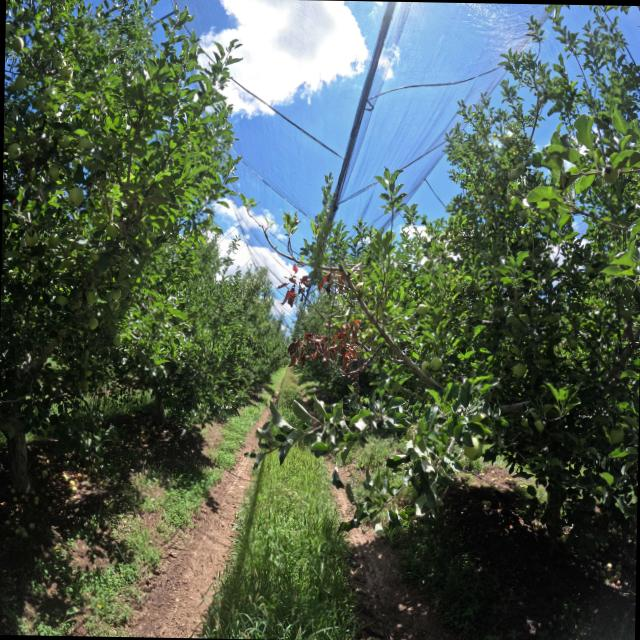-FireBlight-: (286, 318, 368, 376), (278, 268, 312, 306), (318, 265, 349, 301)
